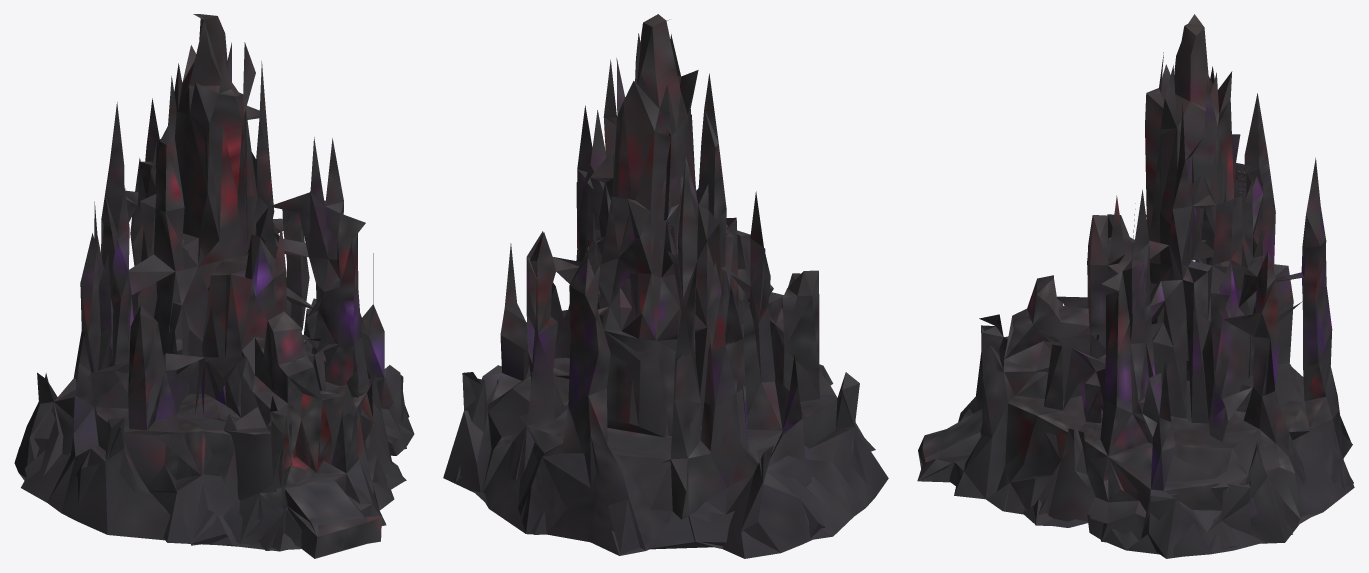
File: Meshy_AI_Gothic_Demon_Castle_Remesh_3K_20261118_texture_remesh_tri.fbx
The picture shows the model from 3 angles, left to right: view 1: azimuth 30°, elevation 25°; view 2: azimuth 150°, elevation 25°; view 3: azimuth 270°, elevation 25°; orthographic projection. The views are drawn at different scales.
Parts seen in each view (by area): view 1: output_unwrapped; view 2: output_unwrapped; view 3: output_unwrapped.
Part boxes in pixels (x1=…): output_unwrapped: x1=14, y1=14, x2=414, y2=558; output_unwrapped: x1=443, y1=14, x2=888, y2=558; output_unwrapped: x1=917, y1=14, x2=1354, y2=558.
Size of the model in its own units: 158 by 183 by 163.
1 material, 1 textured.
